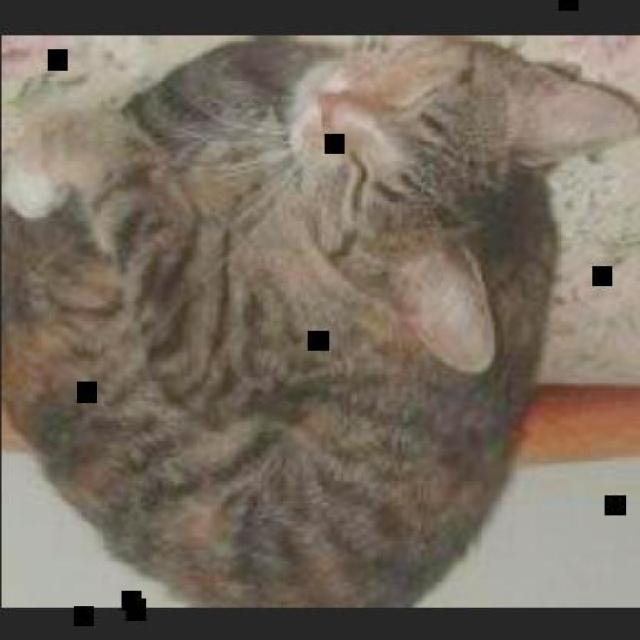unauthorized: (0, 34, 638, 608)
